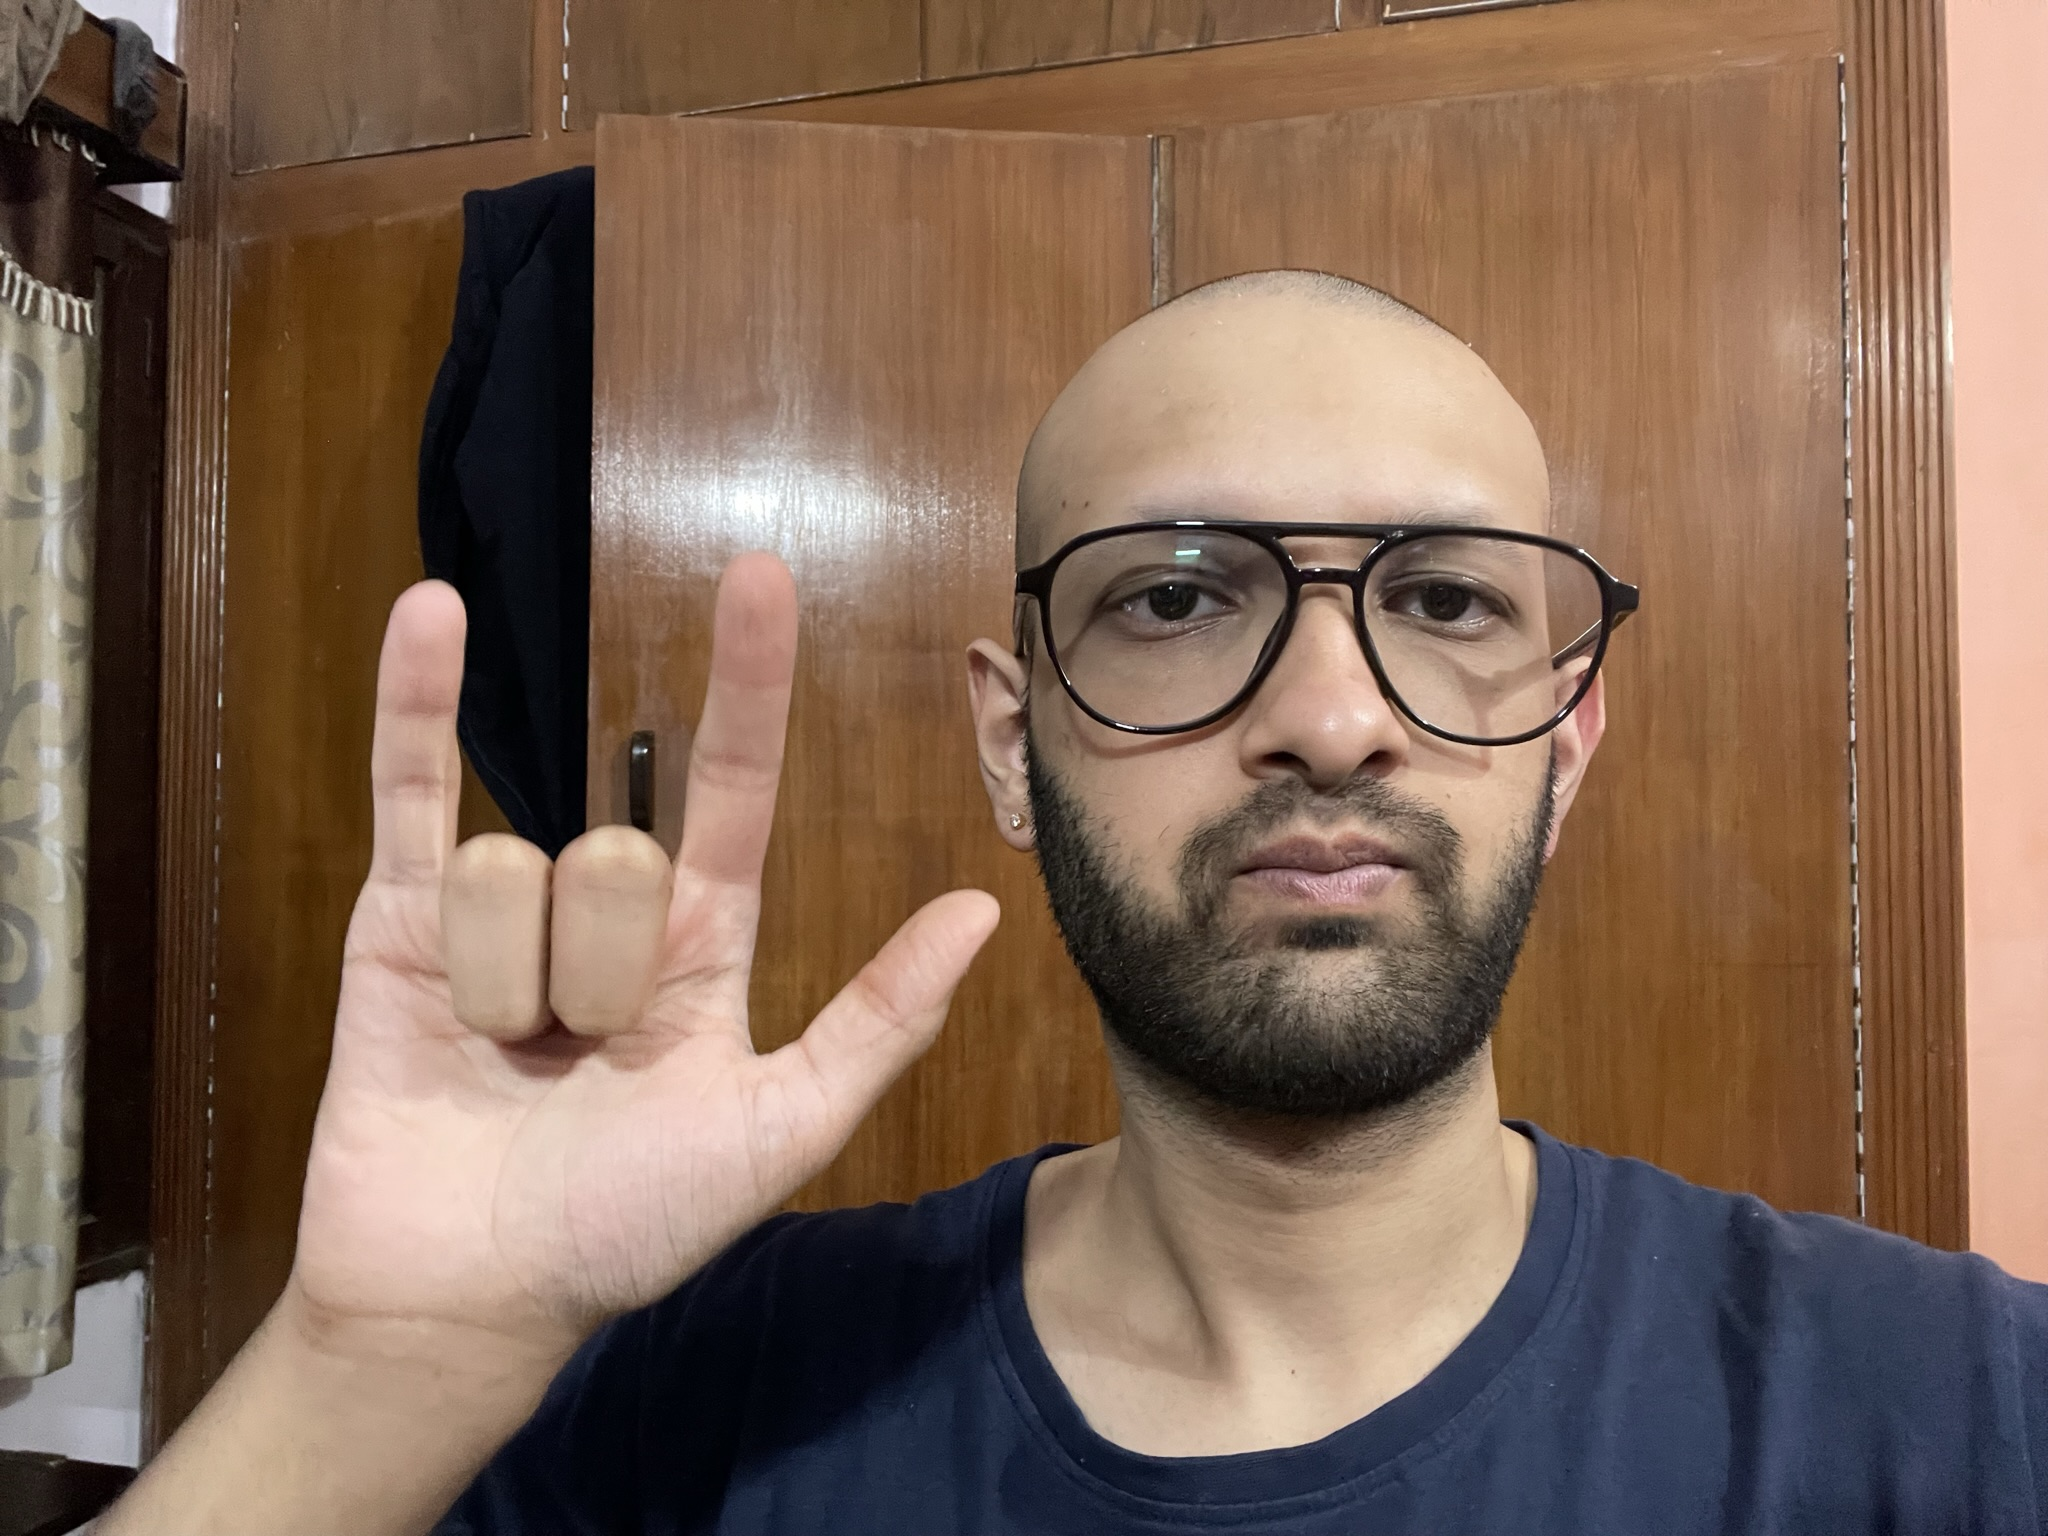I Love You: (289, 544, 1009, 1329)
